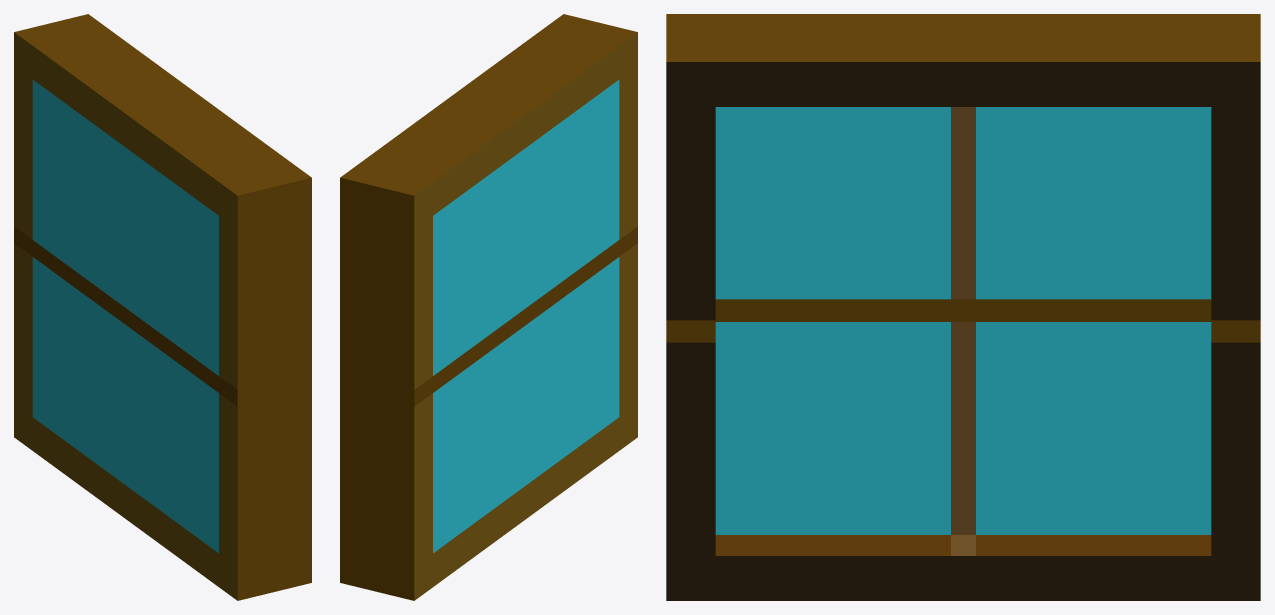
File: Window.fbx
3 views of the same model, side by side, from view 1: azimuth 30°, elevation 25°; view 2: azimuth 150°, elevation 25°; view 3: azimuth 270°, elevation 25° (orthographic). The views are drawn at different scales.
Parts seen in each view (by area): view 1: Window; view 2: Window; view 3: Window.
Boxes of the visible parts, x1,y1,x2,y2 form: Window: (14, 14, 311, 600); Window: (340, 14, 637, 600); Window: (666, 14, 1260, 600).
Size of the model in its own units: 230 by 1200 by 1200.
